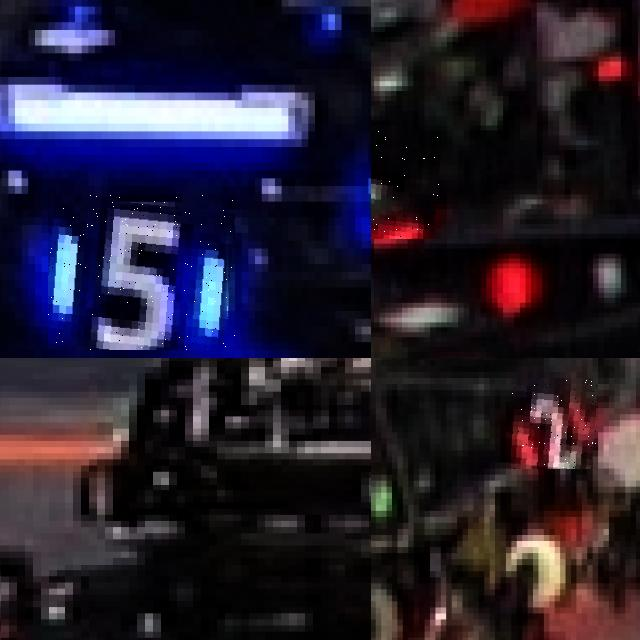B5: (48, 194, 235, 350)
R1: (480, 233, 640, 317), (371, 130, 441, 238)
R2: (511, 378, 598, 469)
